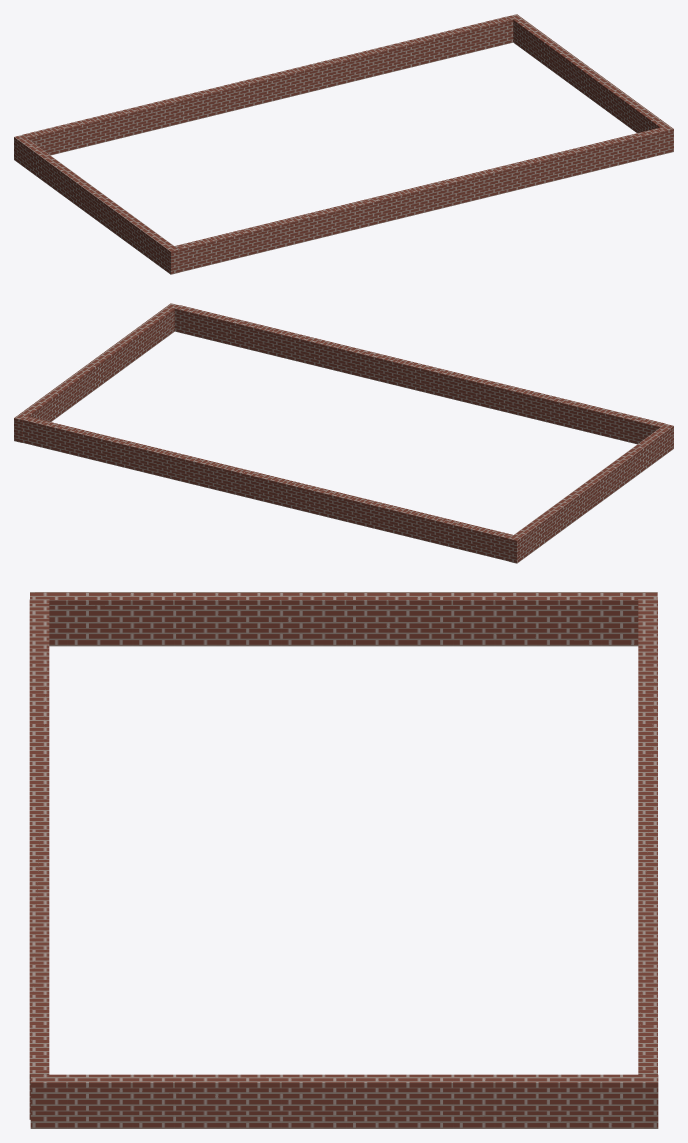
The model's file is Walls.obj.
3 renders of one model, top to bottom at view 1: azimuth 30°, elevation 25°; view 2: azimuth 150°, elevation 25°; view 3: azimuth 270°, elevation 25°, orthographic. The views are drawn at different scales.
Parts seen in each view (by area): view 1: Куб.019_Куб.040; view 2: Куб.019_Куб.040; view 3: Куб.019_Куб.040.
Part boxes in pixels (<box>): Куб.019_Куб.040: <box>14,14,673,274</box>; Куб.019_Куб.040: <box>14,303,673,563</box>; Куб.019_Куб.040: <box>29,592,658,1128</box>.
Bounding box in the file's own units: 62.16 × 2.73 × 33.63.
